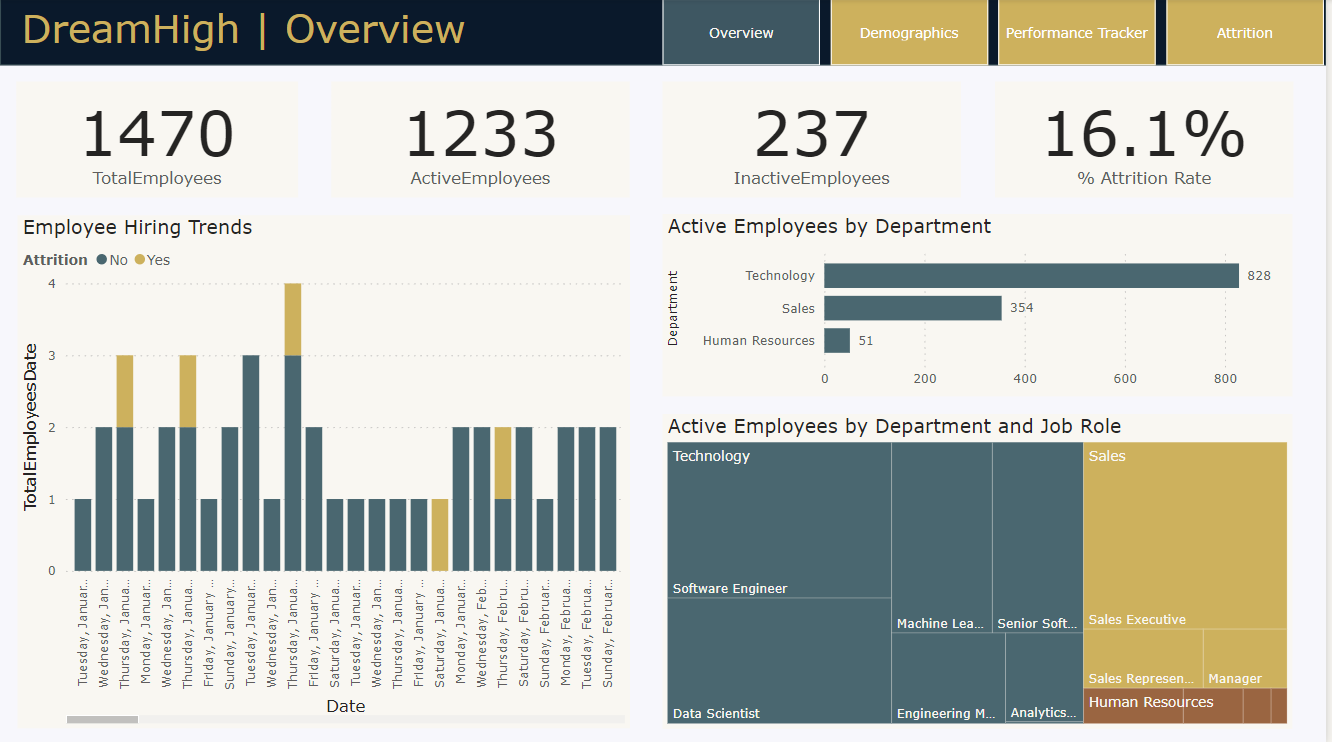

What the dashboard file says about the page in this screenshot:
{"tool":"powerbi","page":{"name":"Overview","canvas":[1280,720],"ordinal":0},"visuals":[{"type":"card","fields":{"Values":["_Measures.TotalEmployees"]},"box":[16,80,272,112],"z":0},{"type":"card","fields":{"Values":["_Measures.ActiveEmployees"]},"box":[320,80,288,112],"z":1000},{"type":"card","fields":{"Values":["_Measures.InactiveEmployees"]},"box":[640,80,288,112],"z":2000},{"type":"card","fields":{"Values":["_Measures.% Attrition Rate"]},"box":[960,80,288,112],"z":3000},{"type":"columnChart","title":"Employee Hiring Trends","fields":{"Category":["DimDate.Date.Variation.Date Hierarchy.Year"],"Y":["_Measures.TotalEmployeesDate"],"Series":["DimEmployee.Attrition"]},"box":[16.5,208.6,591.4,495.4],"z":4000},{"type":"clusteredBarChart","title":"Active Employees by Department","fields":{"Category":["DimEmployee.Department"],"Y":["_Measures.ActiveEmployees"]},"box":[640,208,608,176],"z":5000},{"type":"treemap","title":"Active Employees by Department and Job Role","fields":{"Values":["_Measures.ActiveEmployees"],"Group":["DimEmployee.Department"],"Details":["DimEmployee.JobRole"]},"box":[640,400,608,304],"z":6000},{"type":"shape","box":[0,0,1280,64],"z":7000},{"type":"textbox","box":[16,0,448,64],"z":8000},{"type":"pageNavigator","box":[640,0,640,64],"z":9000}]}

Visuals, with their boxes in screenshot pixels (x1, y1, x2, y2), scaled from the page's 1280x720 canvas onto the 1332x742 screenshot:
card - _Measures.TotalEmployees: <region>17, 82, 300, 198</region>
card - _Measures.ActiveEmployees: <region>333, 82, 633, 198</region>
card - _Measures.InactiveEmployees: <region>666, 82, 966, 198</region>
card - _Measures.% Attrition Rate: <region>999, 82, 1299, 198</region>
"Employee Hiring Trends" columnChart: <region>17, 215, 633, 726</region>
"Active Employees by Department" clusteredBarChart: <region>666, 214, 1299, 396</region>
"Active Employees by Department and Job Role" treemap: <region>666, 412, 1299, 726</region>
shape: <region>0, 0, 1331, 66</region>
textbox: <region>17, 0, 483, 66</region>
pageNavigator: <region>666, 0, 1331, 66</region>
